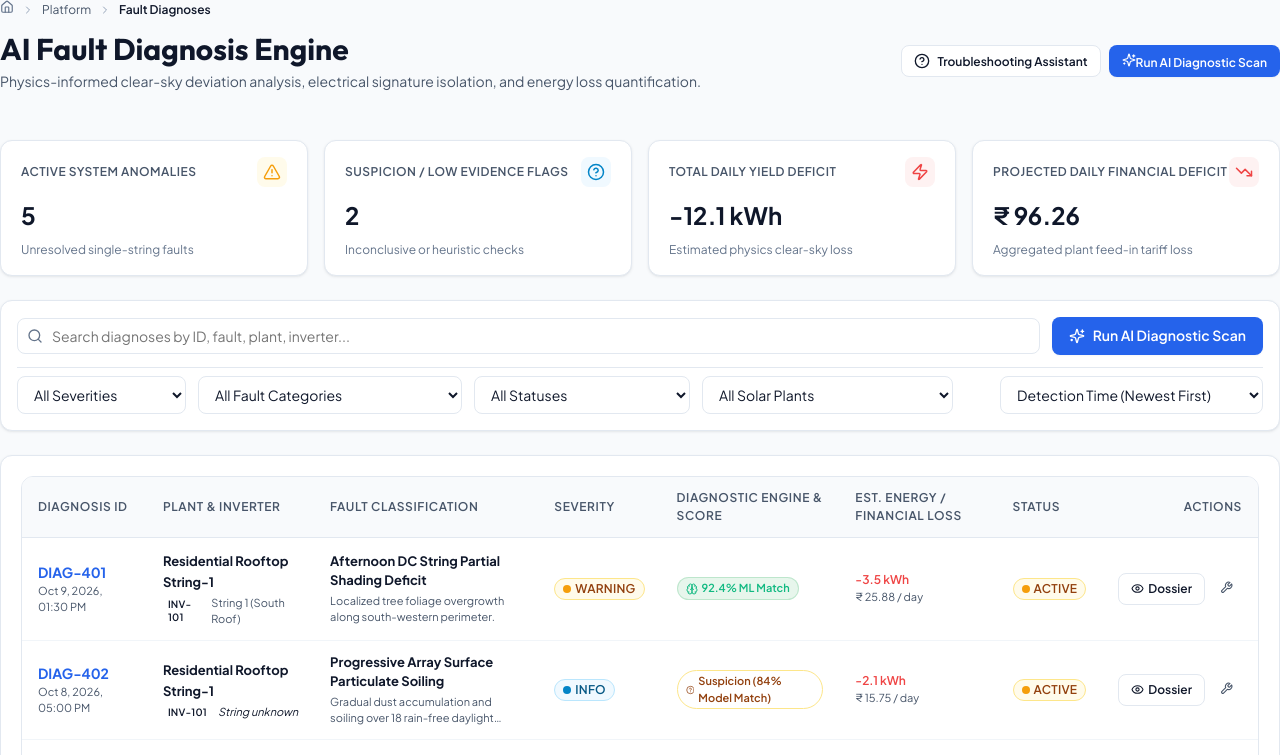
DiagnosisPage Component Suite › filters diagnosis list by search query
The width and height of the screenshot is (1280, 755).
Expected: the text "DIAG-401" is shown, x1=38 y1=562 x2=106 y2=582
In the search field with placeholder "Search diagnoses by ID, fault, plant, inverter...": [528, 336] box x1=17 y1=318 x2=1040 y2=354, type "Grid High Voltage"
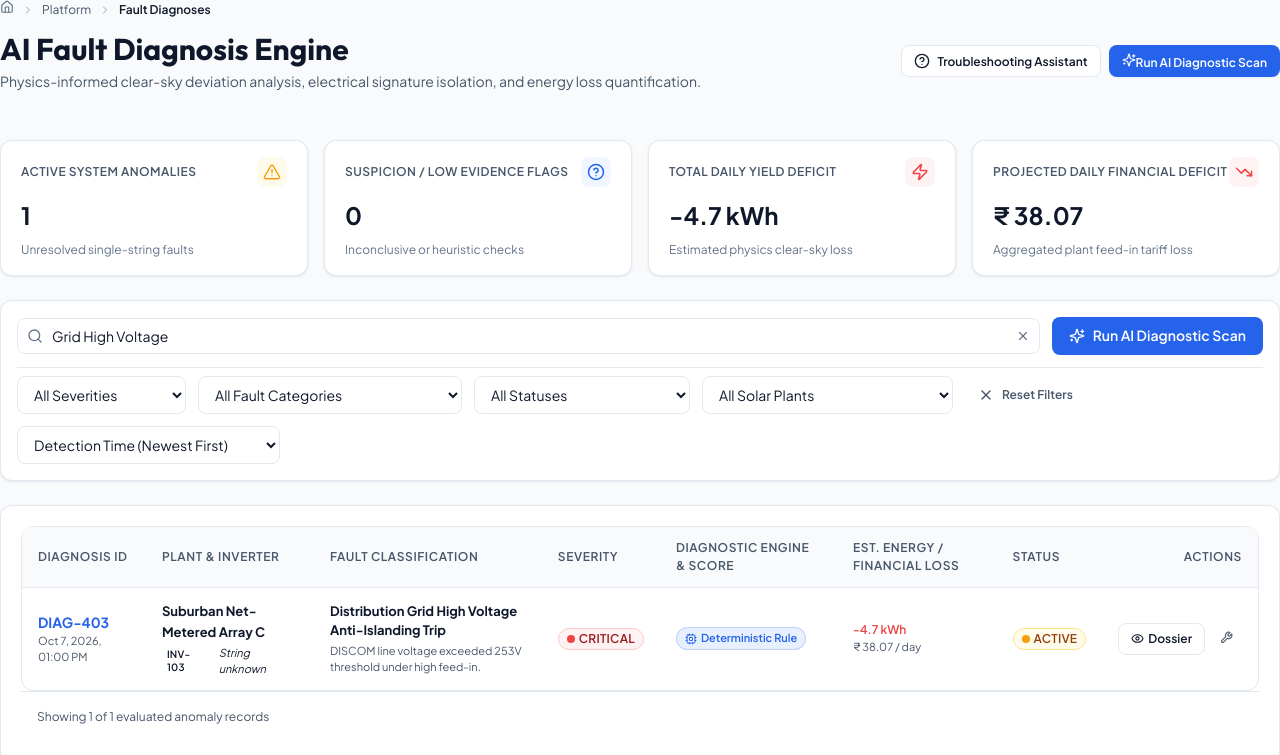
Expected: the text "DIAG-403" is shown, x1=38 y1=612 x2=109 y2=632
Now the link "DIAG-401" is gone
